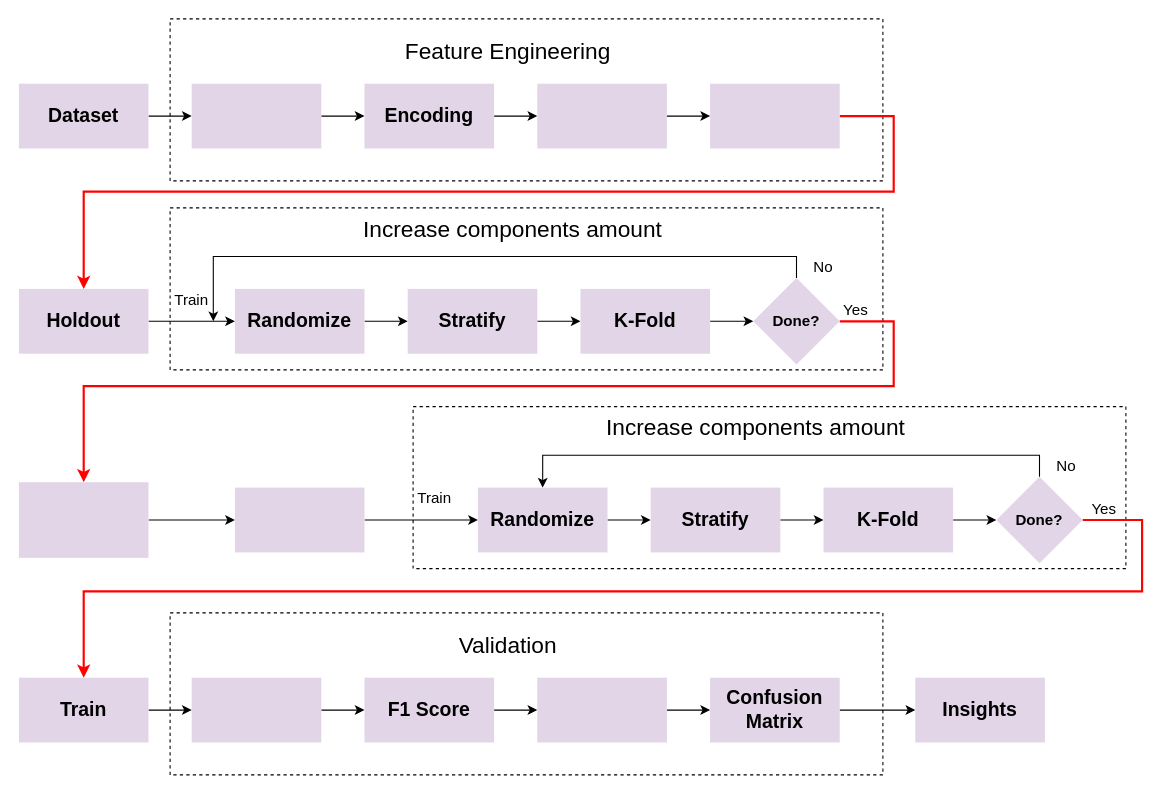
Some shapes in this 1170 by 794 pixel diagram are drawn without their labels. Each missing label, with the centre of its shape:
"Acc" goes at (x=256, y=709).
"AUC" goes at (x=601, y=709).
"Get best amount of components" goes at (x=83, y=519).
"PCA" goes at (x=299, y=519).
"Polynomial Feature" goes at (x=601, y=115).
"Remove Columns" goes at (x=256, y=115).
"Scaling" goes at (x=774, y=115).
